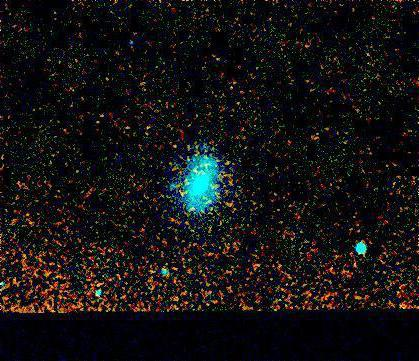star: (388, 294, 418, 324)
